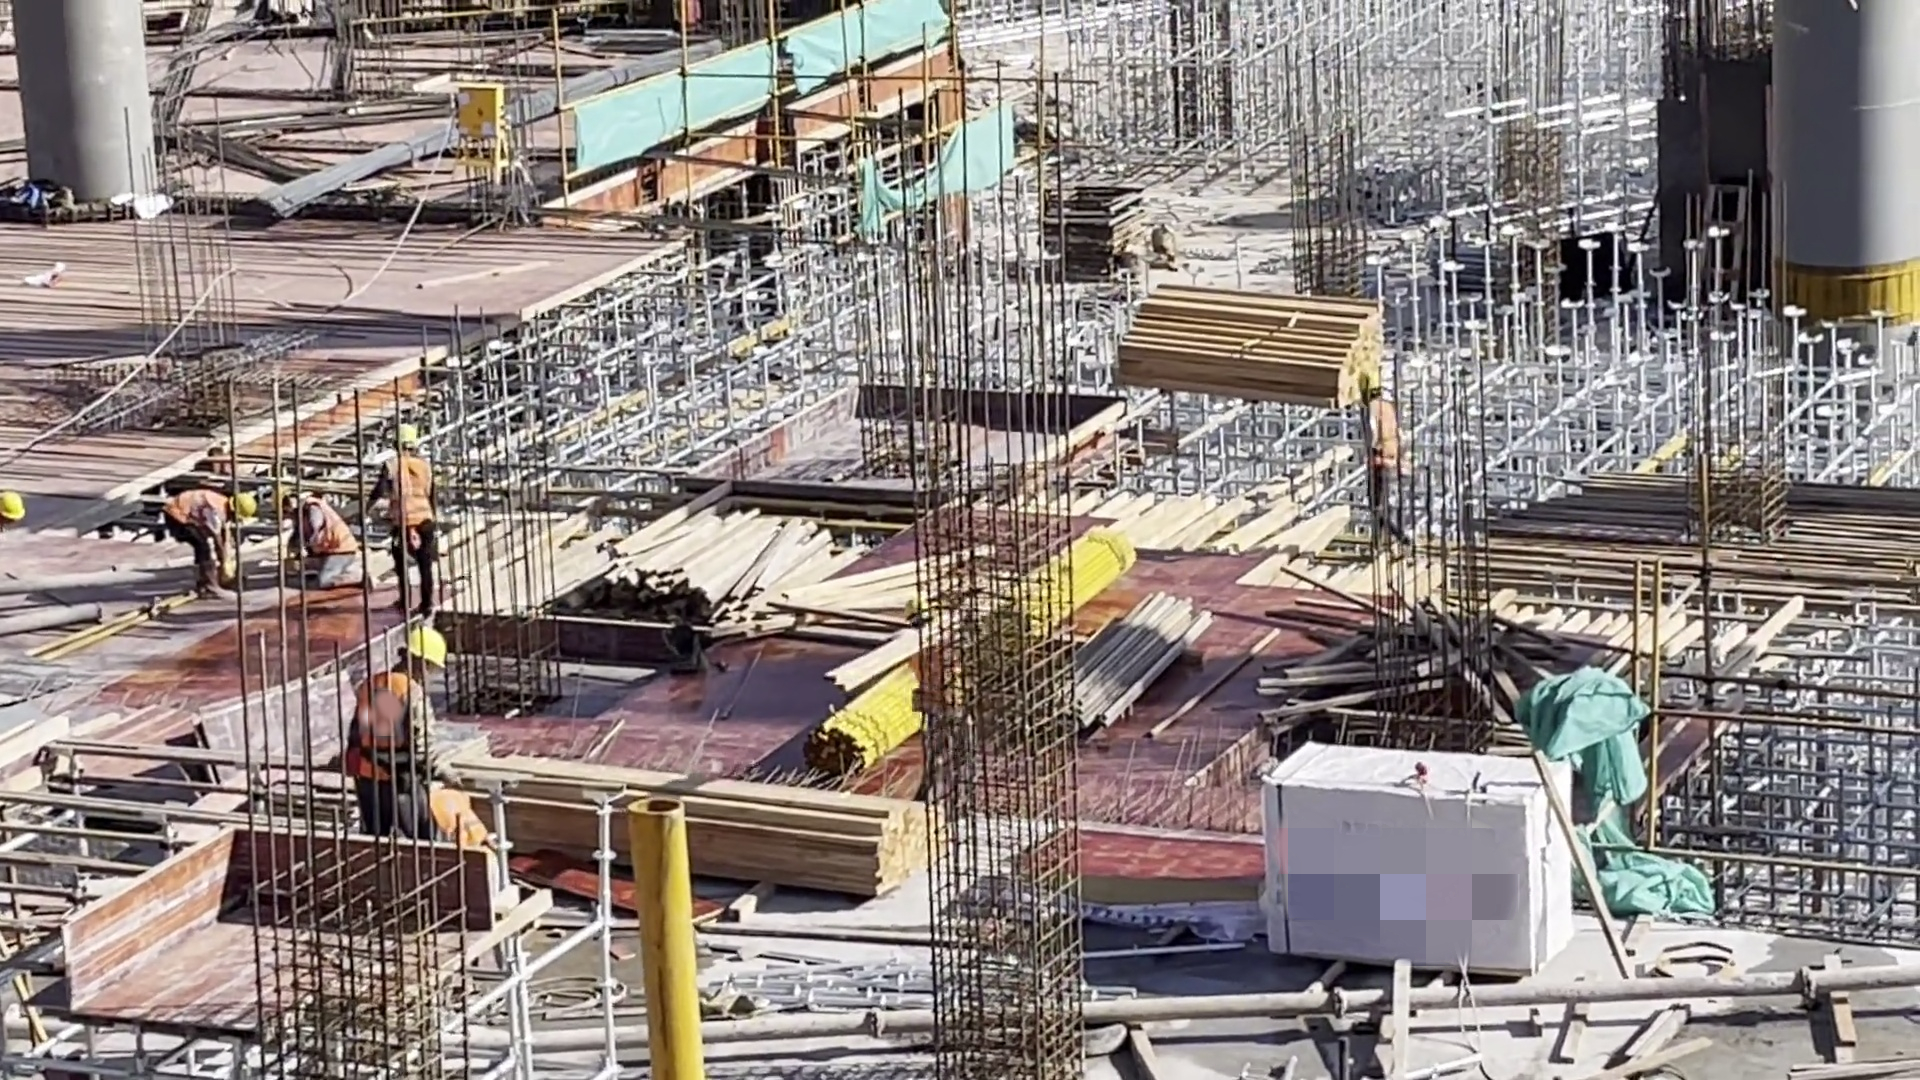ebox: (448, 76, 509, 151)
helmet: (388, 620, 453, 675), (390, 416, 423, 454), (271, 475, 300, 516), (1352, 371, 1382, 393), (226, 493, 253, 517), (1, 499, 26, 523)
person: (354, 621, 453, 852), (370, 414, 459, 616), (147, 459, 250, 591), (1348, 368, 1415, 554), (278, 483, 370, 591)
rebar: (1501, 464, 1920, 614)
vest: (344, 671, 434, 779), (385, 460, 451, 545), (1359, 398, 1407, 477), (165, 488, 229, 529), (296, 501, 346, 544)
wood: (456, 754, 918, 906), (426, 505, 864, 638), (1119, 286, 1379, 404)
